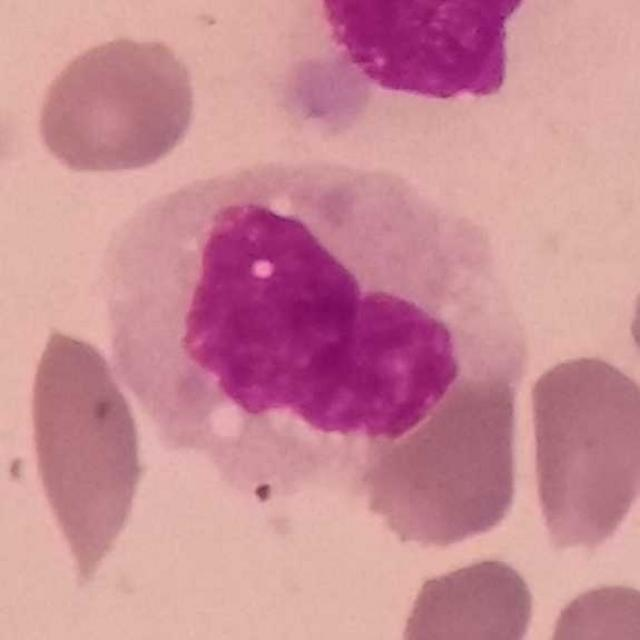mono: (101, 155, 539, 489)
